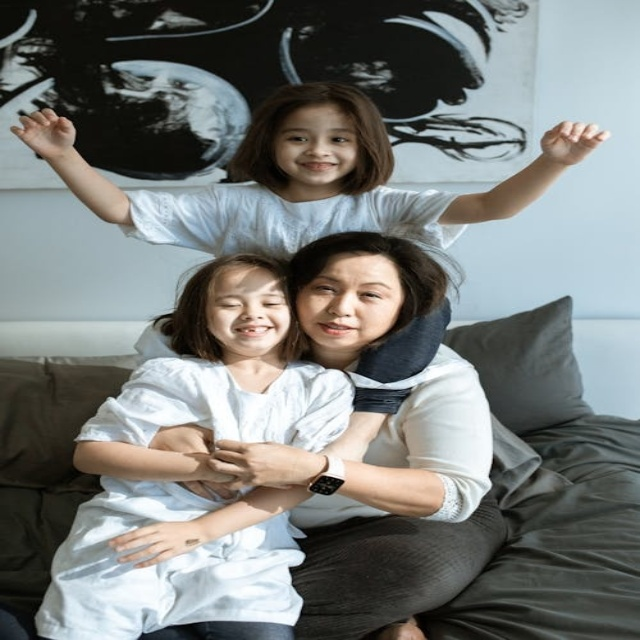Sin_gafas: (305, 271, 398, 301), (207, 287, 285, 311), (280, 126, 356, 148)
Sin_guantes: (207, 439, 325, 490), (104, 520, 208, 569), (538, 113, 609, 169), (8, 106, 84, 158)
Sin_mascara: (307, 316, 369, 348), (223, 322, 280, 346), (287, 155, 340, 175)
